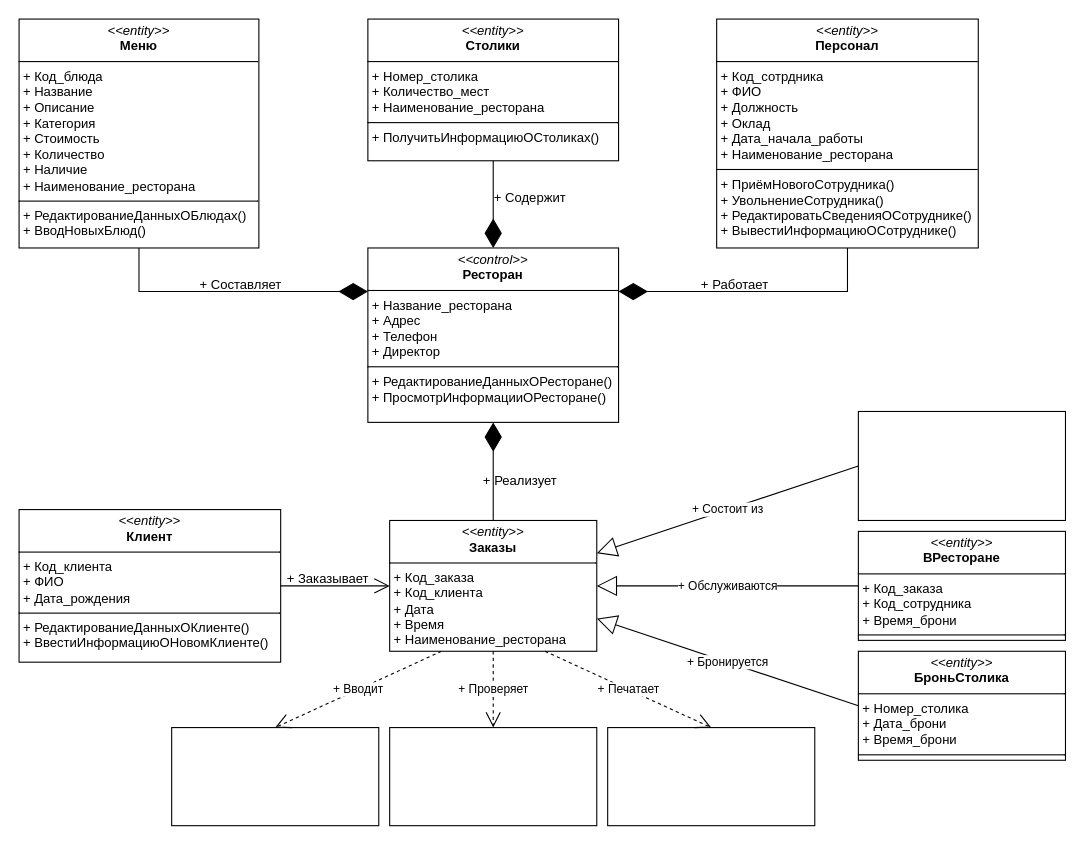
Some shapes in this 1085 by 853 pixel diagram are drawn without their labels. The centre of each missing label's shape, as x and y in pixels:
<<bountary>> ВводДанныхЗаказа + ВвестиЗаказ(): point (275, 776)
<<bountary>> ПечатьКвитанции + РаспечататьЗаказ(): point (711, 776)
<<bountary>> ПроверкаОплаты + ПроверитьЗаказ(): point (493, 776)
<<entity>> ЧтоЗаказано + Код_заказа + Код_блюда + Количество_блюд: point (961, 465)
